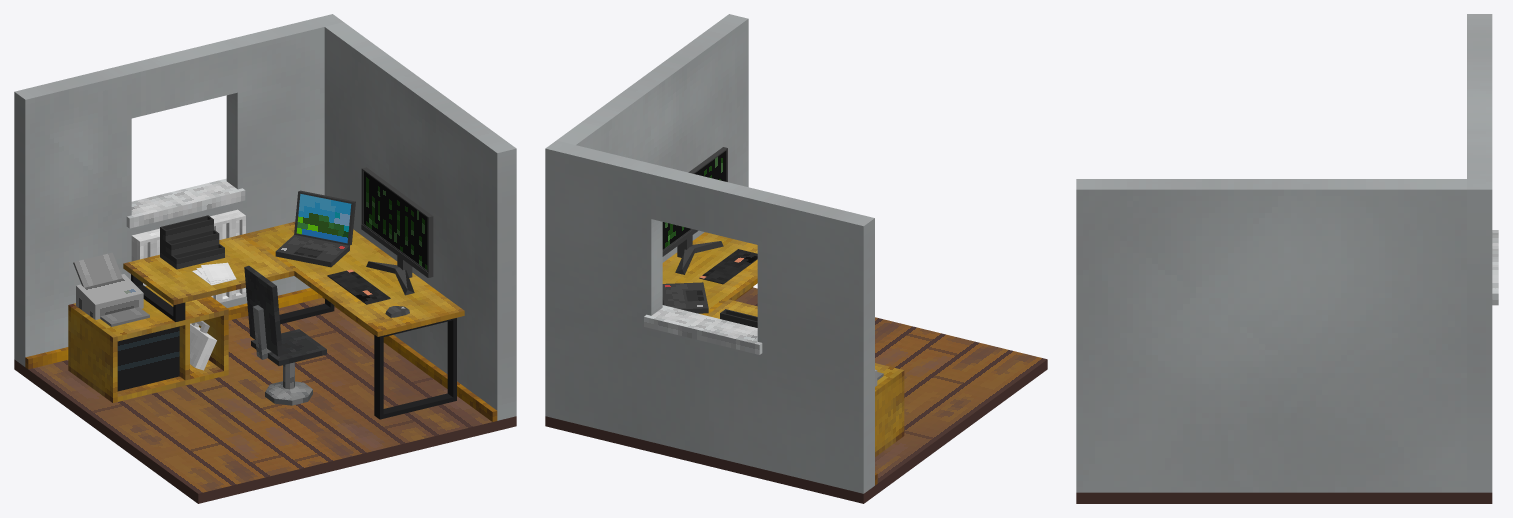
The model's file is room.gltf.
The picture shows the model from 3 angles, left to right: view 1: azimuth 30°, elevation 25°; view 2: azimuth 150°, elevation 25°; view 3: azimuth 270°, elevation 25°; orthographic projection. The views are drawn at different scales.
Parts seen in each view (by area): view 1: cube (×5), floor, cuboid (×17), top long, top, screen, cube_selection, cuboid_selection, radiator, cylinder; view 2: cube (×3), floor, cuboid (×4), top long, screen; view 3: cube (×2), floor, cuboid.
Boxes of the visible parts, left/top/right/bottom form: cube (×5): left=14, top=14, right=516, bottom=421; floor: left=14, top=297, right=516, bottom=503; cuboid (×17): left=73, top=167, right=456, bottom=419; top long: left=244, top=221, right=464, bottom=336; top: left=123, top=234, right=294, bottom=305; screen: left=363, top=171, right=427, bottom=269; cube_selection: left=117, top=326, right=179, bottom=391; cuboid_selection: left=296, top=194, right=351, bottom=243; radiator: left=131, top=209, right=245, bottom=302; cylinder: left=265, top=381, right=312, bottom=405; cube (×3): left=545, top=14, right=904, bottom=493; floor: left=545, top=287, right=1047, bottom=503; cuboid (×4): left=644, top=147, right=762, bottom=354; top long: left=662, top=232, right=757, bottom=315; screen: left=662, top=151, right=726, bottom=249; cube (×2): left=1076, top=14, right=1492, bottom=492; floor: left=1076, top=492, right=1492, bottom=503; cuboid: left=1492, top=230, right=1498, bottom=305.
Size of the model in its own units: 4.12 by 3.44 by 4.19.
Materials: 14 (14 with a texture image).
